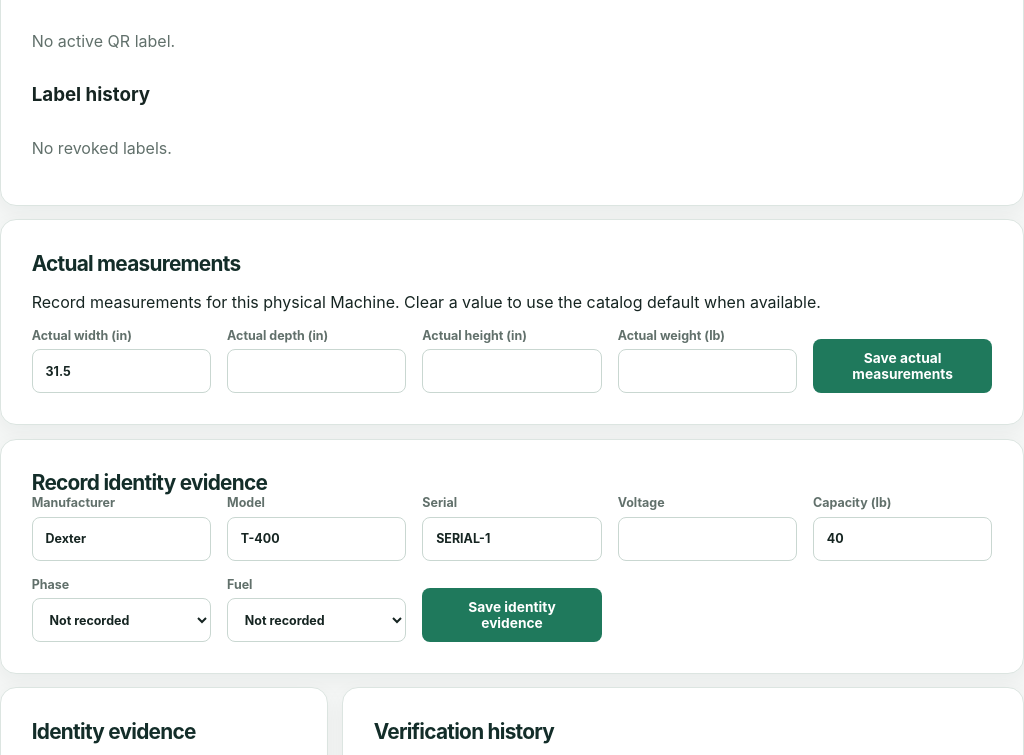
Machine Catalog facts › saves measured overrides separately and replaces effective values from the server
The image size is (1024, 755).
(page scrolled)
Replace the text in the number field labelled "Actual width (in)" with "32" at (121, 371), box [32,349,211,393]
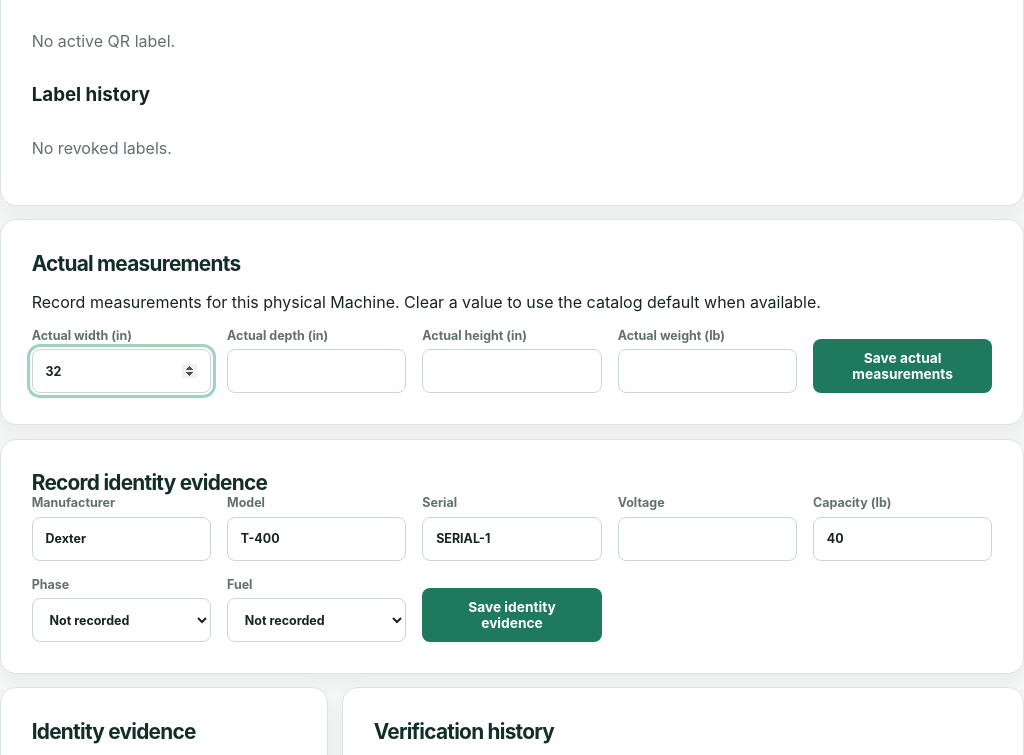
Click the button "Save actual measurements".
click(903, 366)  # box [813,339,992,393]
(page scrolled)
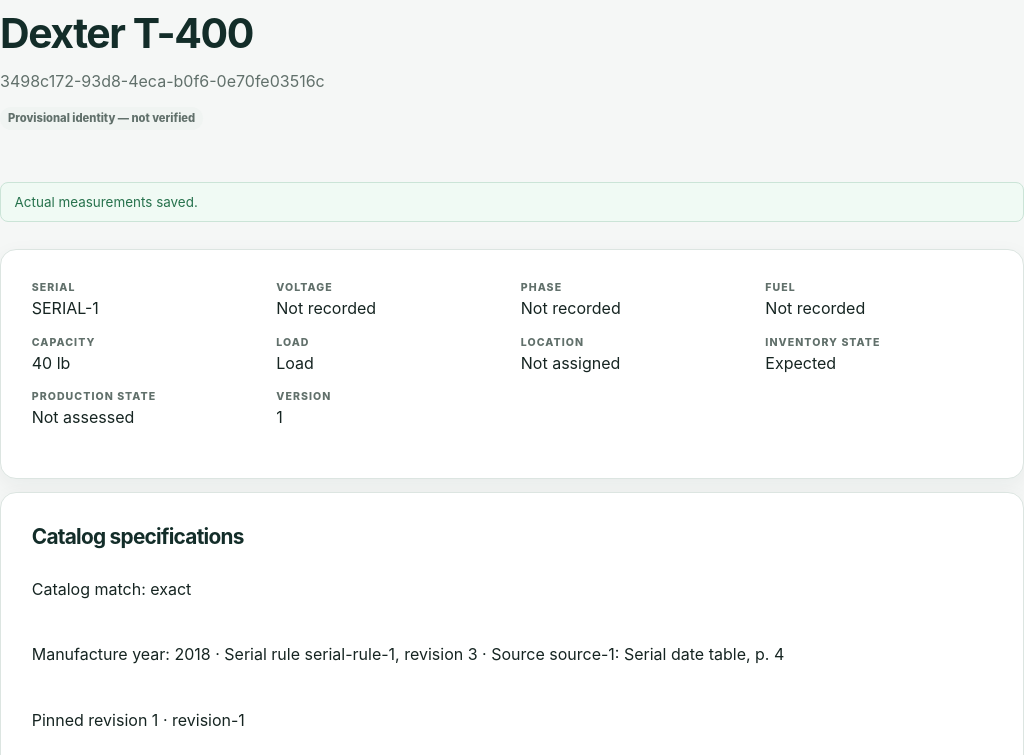
Expected: the text "Actual measurements saved." is shown, [0,182,1023,222]
